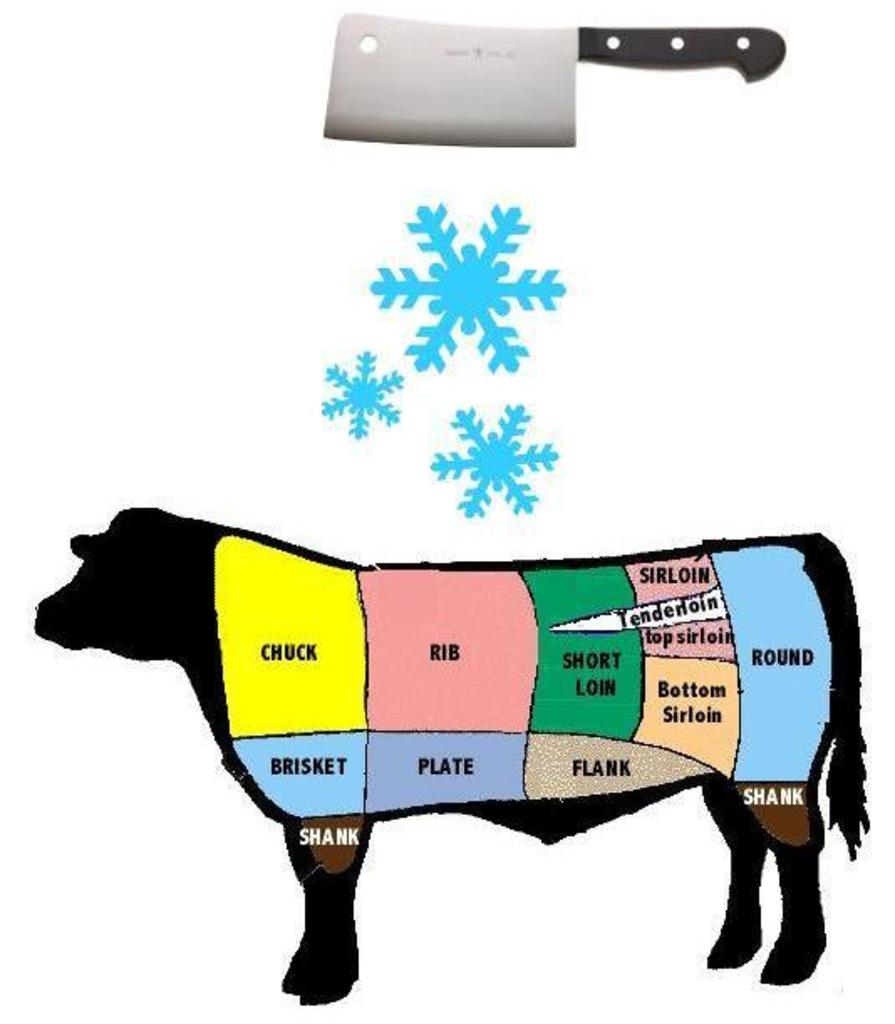kitchen knife: (320, 10, 784, 149)
